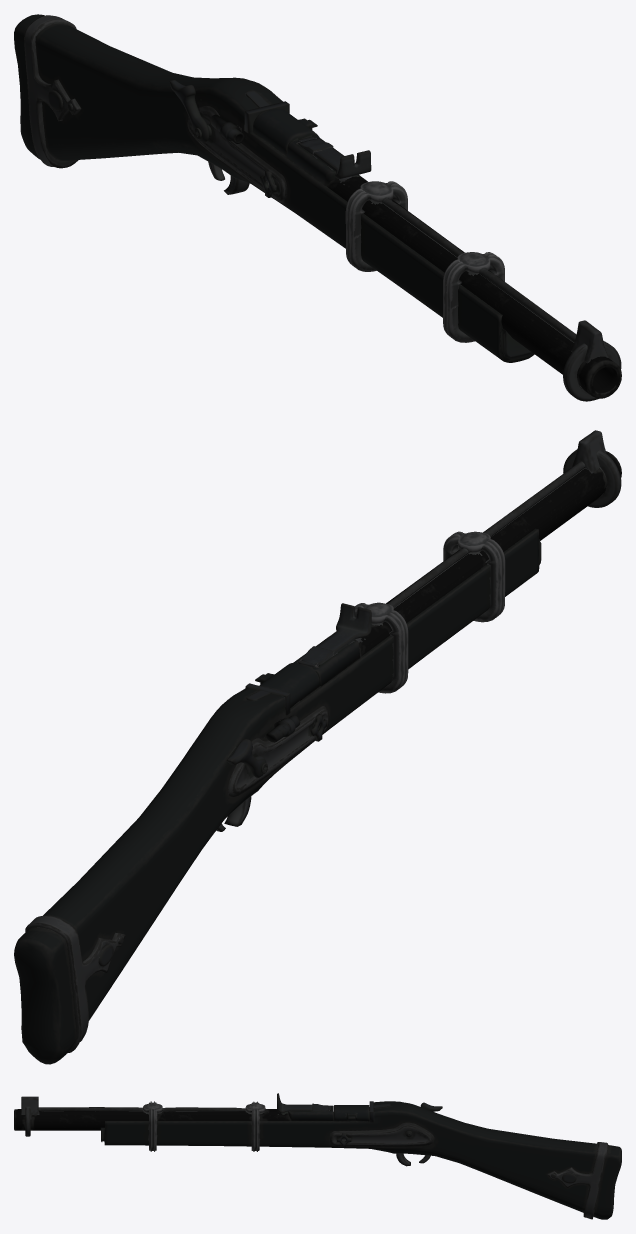
Rendered from rifle.glb.
The picture shows the model from 3 angles, top to bottom: view 1: azimuth 30°, elevation 25°; view 2: azimuth 150°, elevation 25°; view 3: azimuth 270°, elevation 25°; orthographic projection. The views are drawn at different scales.
Visible parts, largest first — view 1: D01_Body_Rifle_Low_Cube.032; view 2: D01_Body_Rifle_Low_Cube.032; view 3: D01_Body_Rifle_Low_Cube.032.
Boxes of the visible parts, x1,y1,x2,y2 form: D01_Body_Rifle_Low_Cube.032: (14,14,621,401); D01_Body_Rifle_Low_Cube.032: (14,430,621,1064); D01_Body_Rifle_Low_Cube.032: (14,1093,621,1219).
Bounding box in the file's own units: 0.2181 × 0.7531 × 3.39.
Materials: 1 (1 with a texture image).
